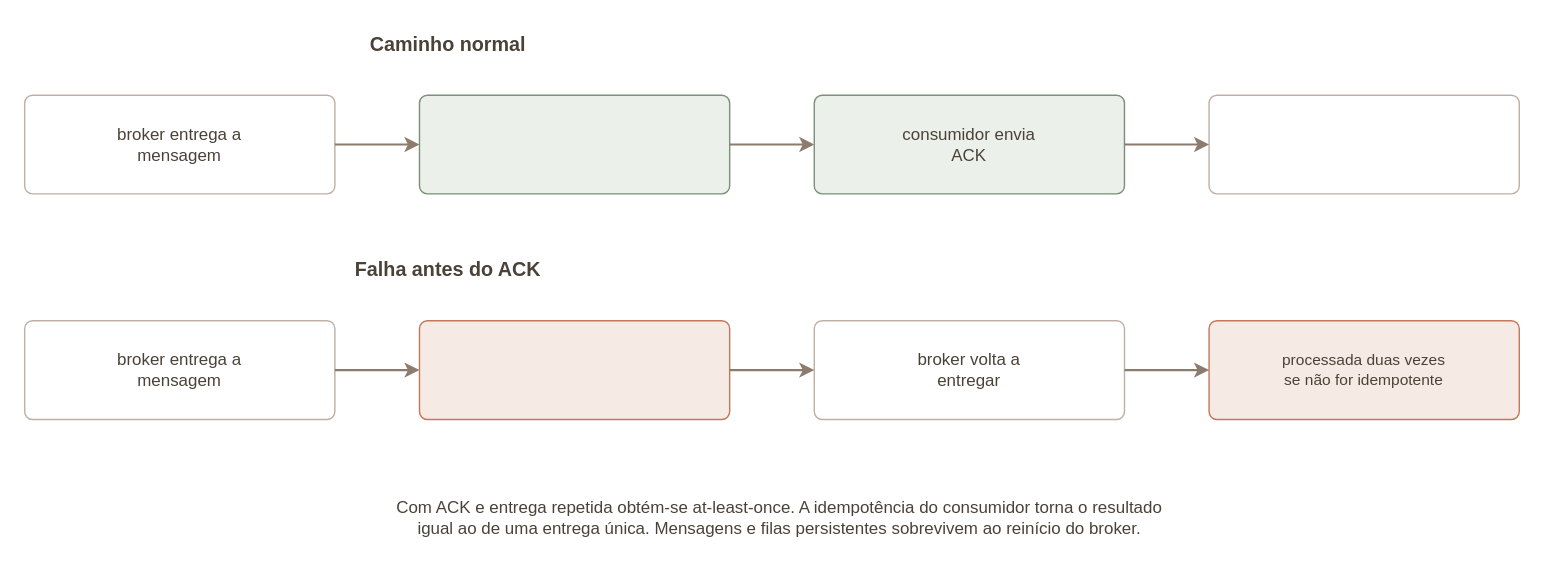
This 1558x584 diagram has some shape labels left out. Each missing label, with the centre of its shape:
broker remove a mensagem: the point at 1363,144
consumidor falha antes do ACK: the point at 574,369
consumidor processa: the point at 574,144
